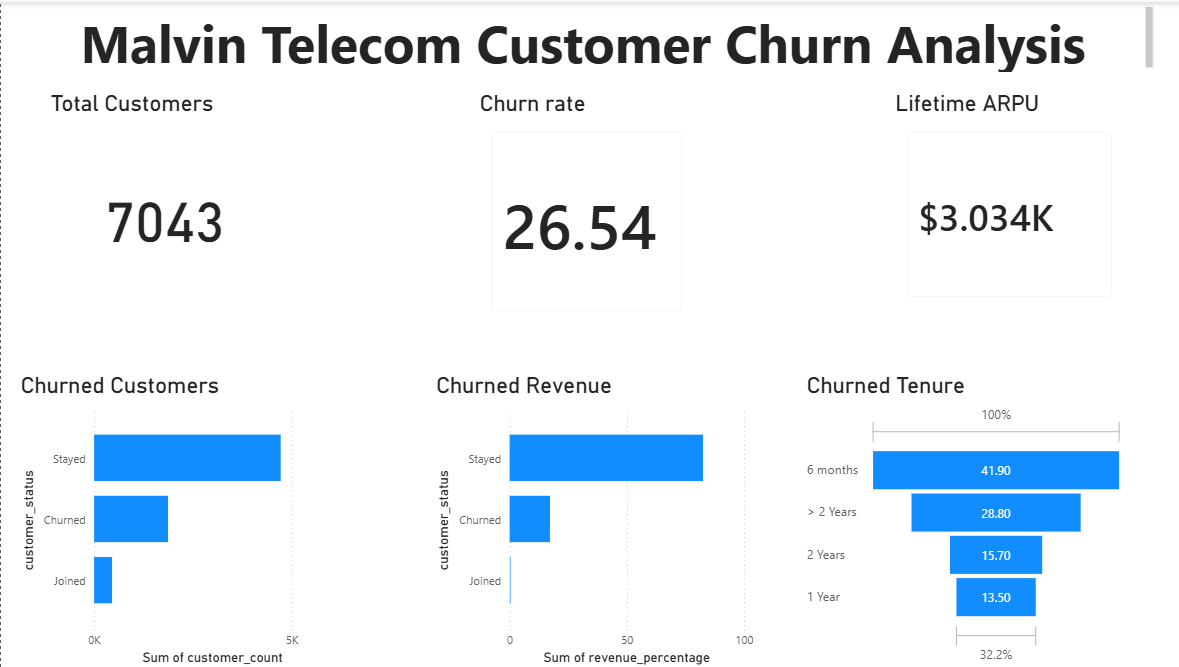

This screenshot's page, from the dashboard's own definition file:
{"tool":"powerbi","page":{"name":"Page 1","canvas":[1280,720],"ordinal":0},"visuals":[{"type":"card","title":"Total Customers","fields":{"Values":["Sum(Query1.total_customers)"]},"box":[48,96,256,240],"z":0},{"type":"barChart","title":"Churned Customers","fields":{"Category":["Query2.customer_status"],"Y":["Sum(Query2.customer_count)"]},"box":[16,400,352,320],"z":1000},{"type":"barChart","title":"Churned Revenue","fields":{"Y":["Sum(Query8.revenue_percentage)"],"Category":["Query8.customer_status"]},"box":[464,400,352,320],"z":3001},{"type":"funnel","title":"Churned Tenure","fields":{"Category":["Query9.Tenure"],"Y":["Sum(Query9.Churn_Percentage)"]},"box":[864,400,352,320],"z":3002},{"type":"cardVisual","title":"Churn rate","fields":{"Data":["Sum(Query10.total_churned_rate)"]},"box":[512,96,240,256],"z":3003},{"type":"cardVisual","title":"Lifetime ARPU","fields":{"Data":["Sum(Query11.Lifetime_ARPU)"]},"box":[960,96,256,240],"z":3004},{"type":"textbox","box":[16,0,1232,80],"z":3005}]}

Visuals, with their boxes in screenshot pixels (x1, y1, x2, y2), scaled from the page's 1280x720 canvas onto the 1179x667 screenshot:
"Total Customers" card: 44, 89, 280, 311
"Churned Customers" barChart: 15, 371, 339, 666
"Churned Revenue" barChart: 427, 371, 752, 666
"Churned Tenure" funnel: 796, 371, 1120, 666
"Churn rate" cardVisual: 472, 89, 693, 326
"Lifetime ARPU" cardVisual: 884, 89, 1120, 311
textbox: 15, 0, 1150, 74
